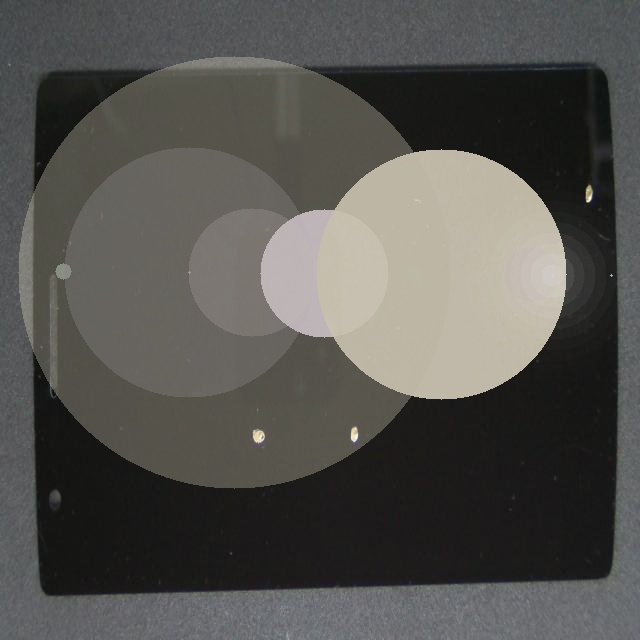stain: (175, 162, 510, 628), (130, 237, 394, 640), (282, 99, 640, 336)
